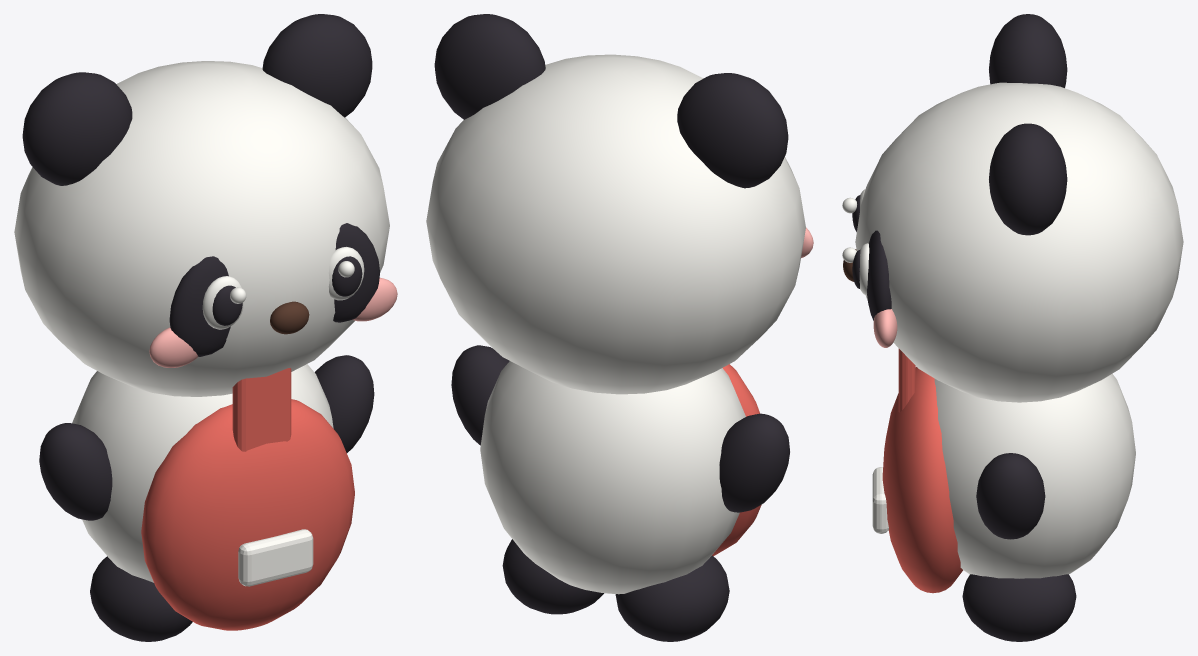
The model's file is char_panda.glb.
3 renders of one model, left to right at view 1: azimuth 30°, elevation 25°; view 2: azimuth 150°, elevation 25°; view 3: azimuth 270°, elevation 25°, orthographic. The views are drawn at different scales.
Visible parts, largest first — view 1: panda_head, panda_apron, panda_body, panda_ear_-1, panda_ear_1, panda_arm_L, panda_leg_L, panda_apron_strap, panda_arm_R, panda_eyepatch_-1, panda_apron_pocket, panda_eyepatch_1 (+7 smaller); view 2: panda_head, panda_body, panda_ear_-1, panda_ear_1, panda_leg_L, panda_arm_L, panda_leg_R, panda_arm_R, panda_apron; view 3: panda_head, panda_body, panda_apron, panda_ear_1, panda_leg_R, panda_arm_R, panda_ear_-1, panda_eyepatch_1, panda_apron_pocket, panda_apron_strap, panda_blush_1.
Boxes of the visible parts, x1=… form: panda_head: x1=14, y1=61, x2=389, y2=396; panda_apron: x1=141, y1=399, x2=354, y2=630; panda_body: x1=72, y1=364, x2=333, y2=582; panda_ear_-1: x1=22, y1=72, x2=132, y2=185; panda_ear_1: x1=262, y1=14, x2=372, y2=117; panda_arm_L: x1=39, y1=423, x2=112, y2=520; panda_leg_L: x1=90, y1=556, x2=192, y2=641; panda_apron_strap: x1=232, y1=368, x2=291, y2=451; panda_arm_R: x1=315, y1=355, x2=374, y2=452; panda_eyepatch_-1: x1=169, y1=256, x2=230, y2=356; panda_apron_pocket: x1=238, y1=529, x2=313, y2=586; panda_eyepatch_1: x1=333, y1=223, x2=379, y2=322; panda_head: x1=426, y1=54, x2=805, y2=394; panda_body: x1=480, y1=361, x2=745, y2=594; panda_ear_-1: x1=677, y1=73, x2=788, y2=188; panda_ear_1: x1=434, y1=14, x2=545, y2=119; panda_leg_L: x1=615, y1=555, x2=729, y2=641; panda_arm_L: x1=719, y1=413, x2=789, y2=512; panda_leg_R: x1=502, y1=539, x2=603, y2=614; panda_arm_R: x1=451, y1=345, x2=509, y2=445; panda_apron: x1=712, y1=364, x2=761, y2=555; panda_head: x1=855, y1=82, x2=1183, y2=402; panda_body: x1=934, y1=373, x2=1135, y2=578; panda_apron: x1=882, y1=366, x2=962, y2=593; panda_ear_1: x1=989, y1=123, x2=1067, y2=235; panda_leg_R: x1=962, y1=574, x2=1076, y2=641; panda_arm_R: x1=976, y1=453, x2=1045, y2=539; panda_ear_-1: x1=989, y1=14, x2=1067, y2=87; panda_eyepatch_1: x1=867, y1=230, x2=891, y2=320; panda_apron_pocket: x1=872, y1=467, x2=888, y2=533; panda_apron_strap: x1=898, y1=348, x2=915, y2=412; panda_blush_1: x1=873, y1=309, x2=897, y2=347.
Bounding box in the file's own units: 0.43 × 0.686 × 0.395.
Materials: 1 (1 with a texture image).
